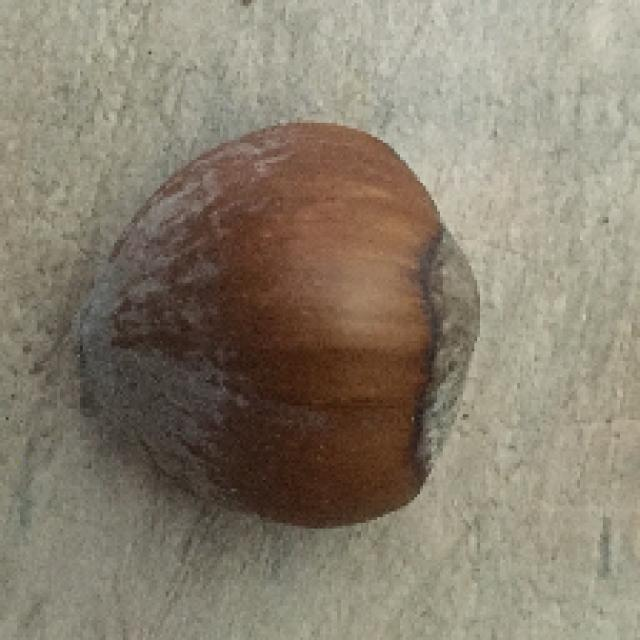qualityHazelnut: (64, 117, 479, 534)
